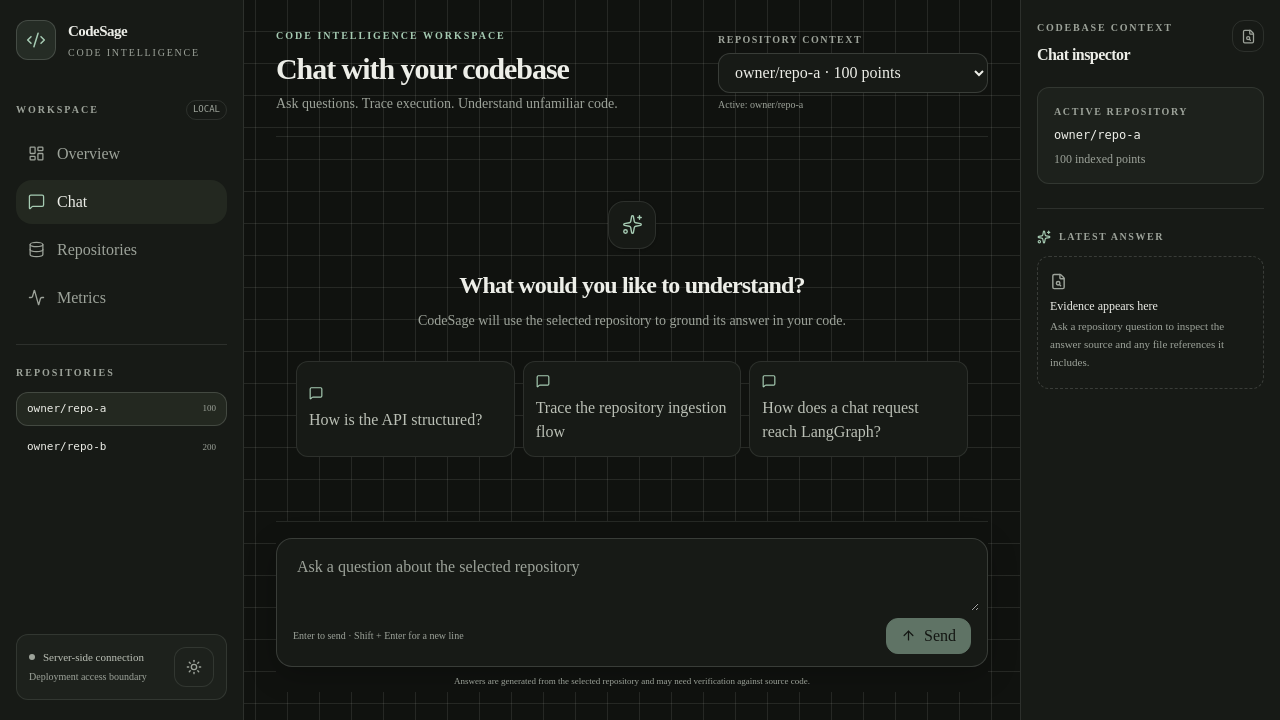
ChatPage › API error › shows an error message when the BFF returns an error
Type "Bad question" into the text box with placeholder "Ask a question about the selected repository" at (632, 578), box [285,546,979,610]
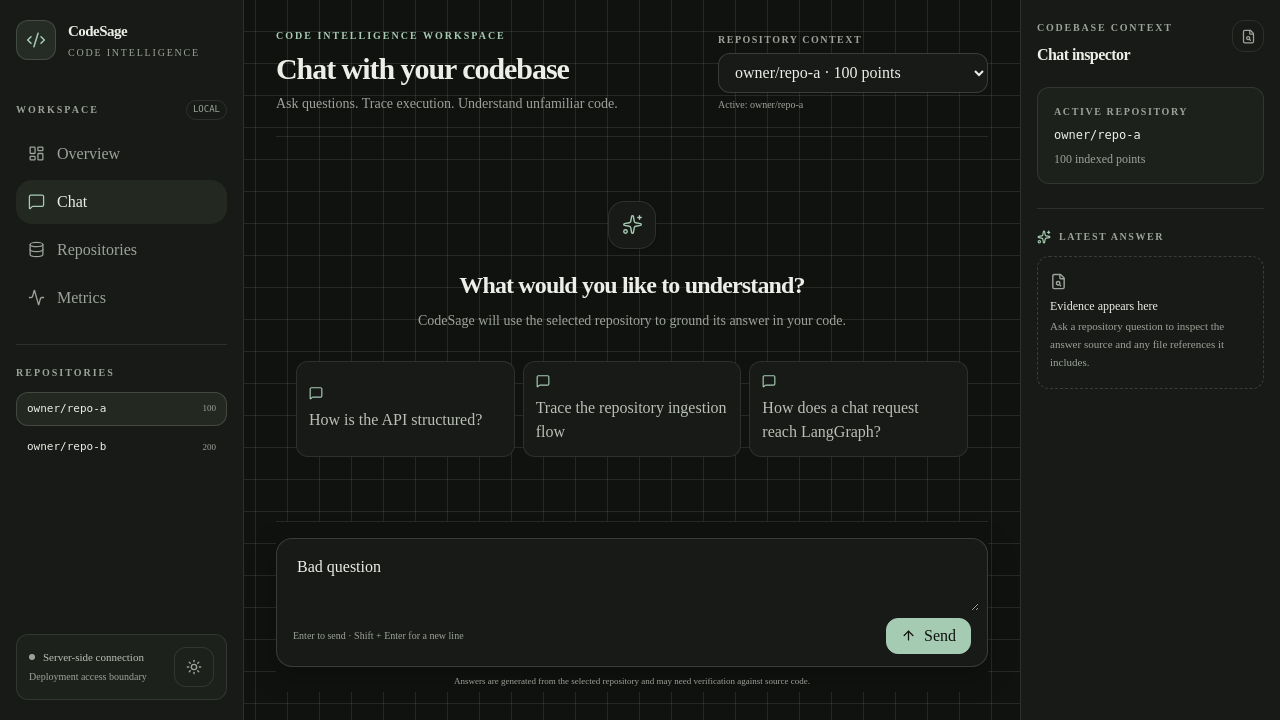
Click the button with aria-label "submit" at (928, 636), box [886,618,971,654]
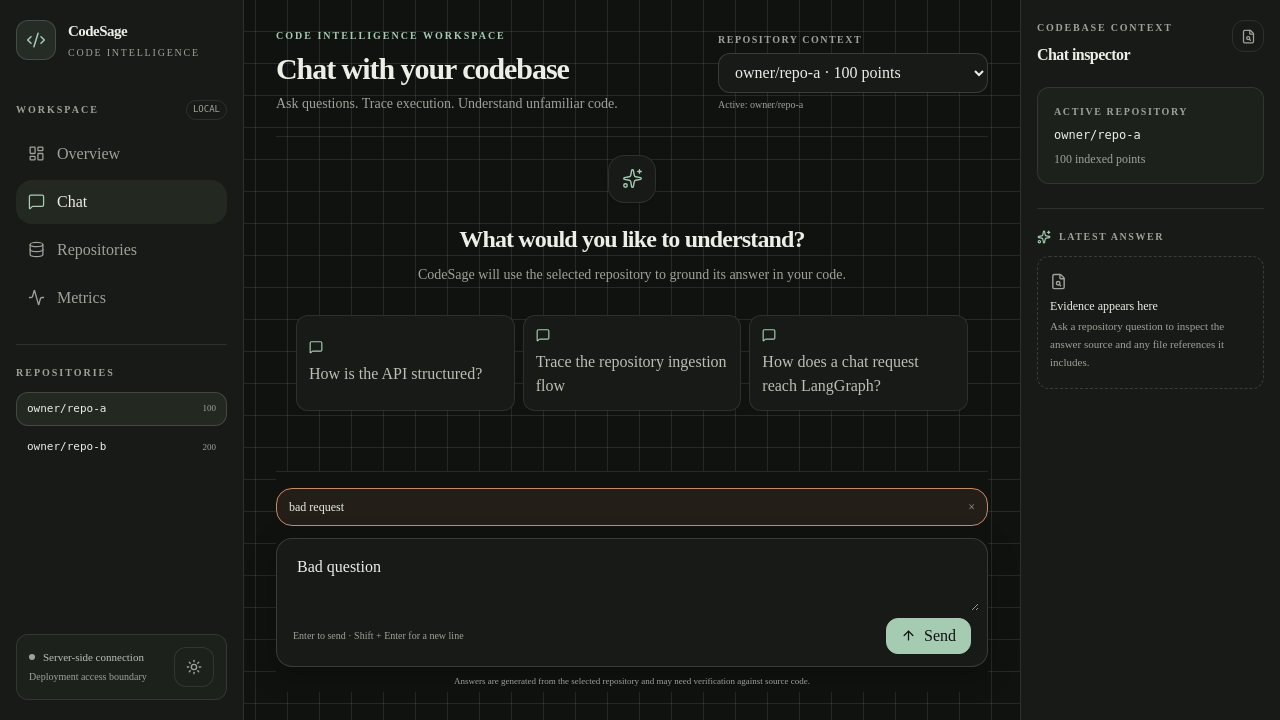
Expected: the message "bad request ×" is shown, [276,488,988,526]
